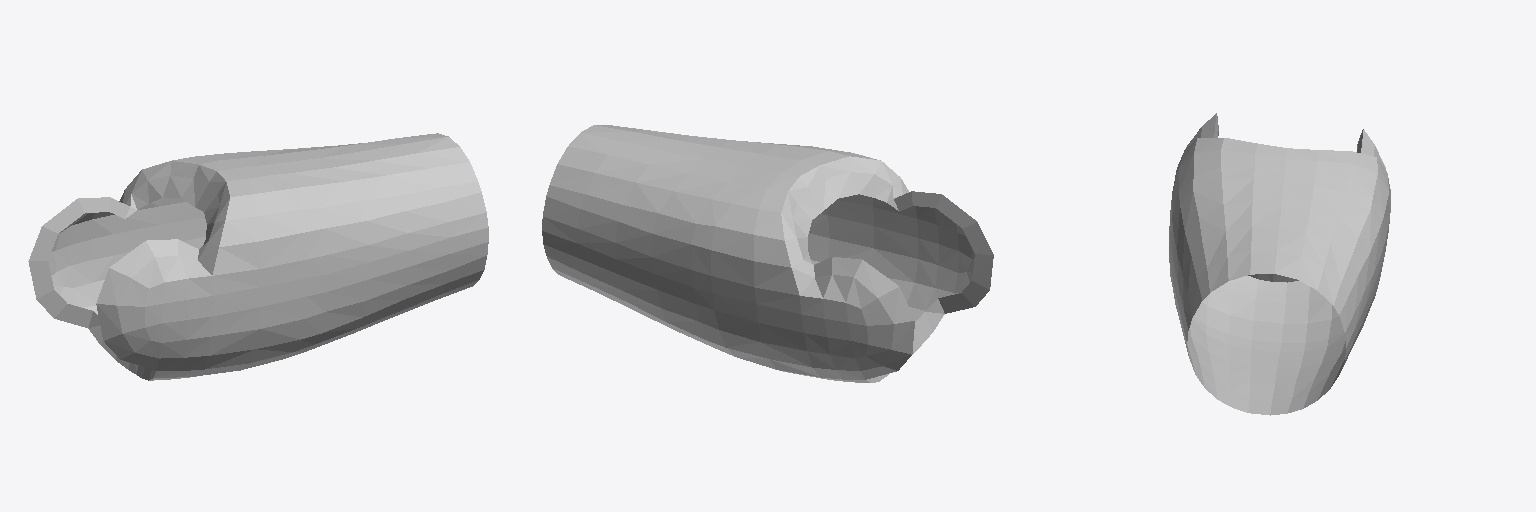
Rendered from RElbowYaw_mainskin.obj.
3 views of the same model, side by side, from view 1: azimuth 30°, elevation 25°; view 2: azimuth 150°, elevation 25°; view 3: azimuth 270°, elevation 25° (orthographic).
Size of the model in its own units: 0.2044 by 0.0937 by 0.1018.